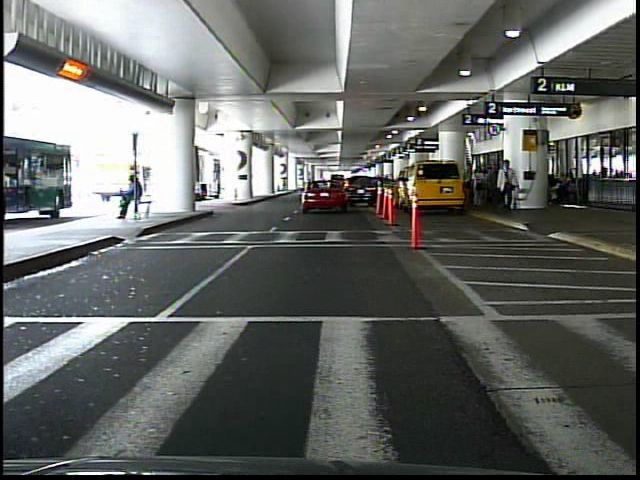person: (499, 162, 517, 212), (484, 165, 498, 214), (472, 165, 486, 210)
